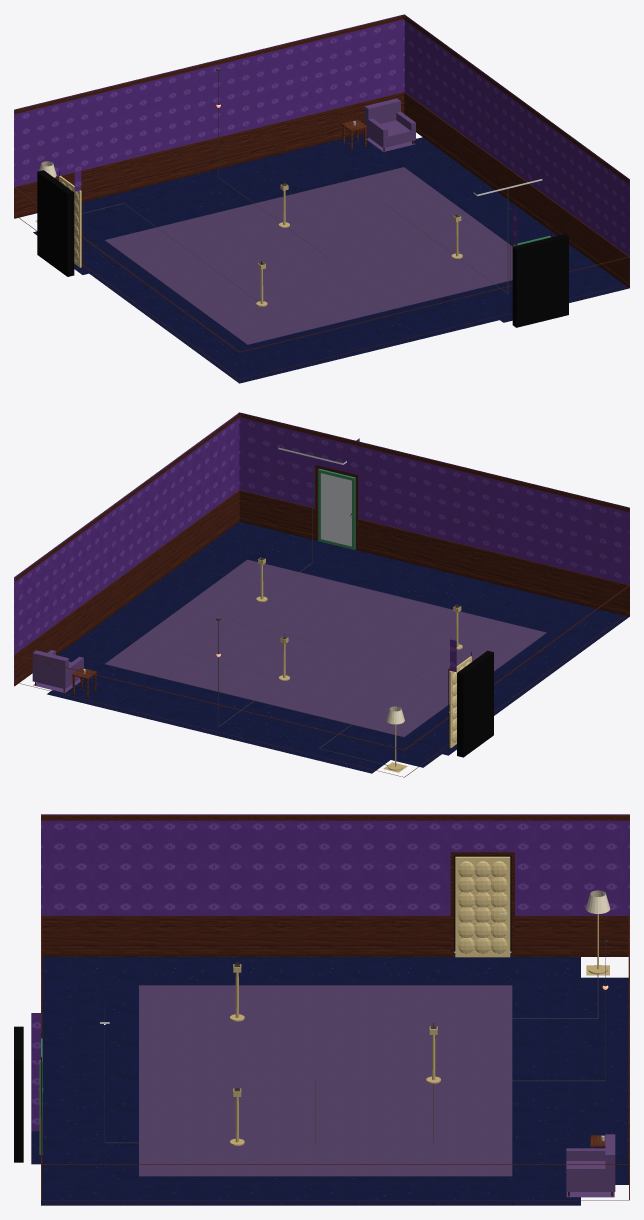
File: rdwe_lights_out.glb
3 views of the same model, one above another, from view 1: azimuth 30°, elevation 25°; view 2: azimuth 150°, elevation 25°; view 3: azimuth 270°, elevation 25° (orthographic). The views are drawn at different scales.
Parts seen in each view (by area): view 1: Paper_Violet, Rug_Plum, Carpet_Stars, Panel_Dark, Trim_Dark, Void_Black, Velvet_Plum, Rubber, DoorLeaf_void, Brass; view 2: Paper_Violet, Rug_Plum, Carpet_Stars, Panel_Dark, Trim_Dark, Void_Black, DoorLeaf_three, Velvet_Plum, Rubber, Brass, DoorLeaf_void; view 3: Carpet_Stars, Rug_Plum, Paper_Violet, Panel_Dark, Trim_Dark, DoorLeaf_void, Velvet_Plum, Void_Black, Rubber, Brass.
Part boxes in pixels (box(x1,y1,x2,y2)): Paper_Violet: box(14, 14, 629, 287); Rug_Plum: box(104, 167, 512, 344); Carpet_Stars: box(33, 133, 628, 383); Panel_Dark: box(14, 94, 629, 352); Trim_Dark: box(14, 15, 629, 379); Void_Black: box(37, 170, 568, 327); Velvet_Plum: box(364, 98, 415, 151); Rubber: box(81, 71, 508, 301); DoorLeaf_void: box(59, 175, 81, 267); Brass: box(35, 163, 462, 306); Paper_Violet: box(14, 412, 629, 685); Rug_Plum: box(104, 559, 546, 737); Carpet_Stars: box(47, 522, 629, 773); Panel_Dark: box(14, 492, 629, 750); Trim_Dark: box(14, 413, 629, 777); Void_Black: box(318, 468, 493, 757); DoorLeaf_three: box(318, 468, 355, 549); Velvet_Plum: box(32, 650, 83, 692); Rubber: box(187, 457, 449, 765); Brass: box(256, 557, 462, 772); DoorLeaf_void: box(449, 656, 471, 747); Carpet_Stars: box(31, 952, 628, 1205); Rug_Plum: box(139, 985, 512, 1176); Paper_Violet: box(31, 814, 629, 1131); Panel_Dark: box(41, 918, 629, 1165); Trim_Dark: box(41, 815, 629, 1200); DoorLeaf_void: box(455, 856, 510, 957); Velvet_Plum: box(566, 1134, 615, 1197); Void_Black: box(14, 855, 511, 1162); Rubber: box(104, 942, 605, 1143); Brass: box(230, 893, 609, 1145).
Size of the model in its own units: 12.55 by 3.25 by 12.55.
Materials: 23 (9 with a texture image).
